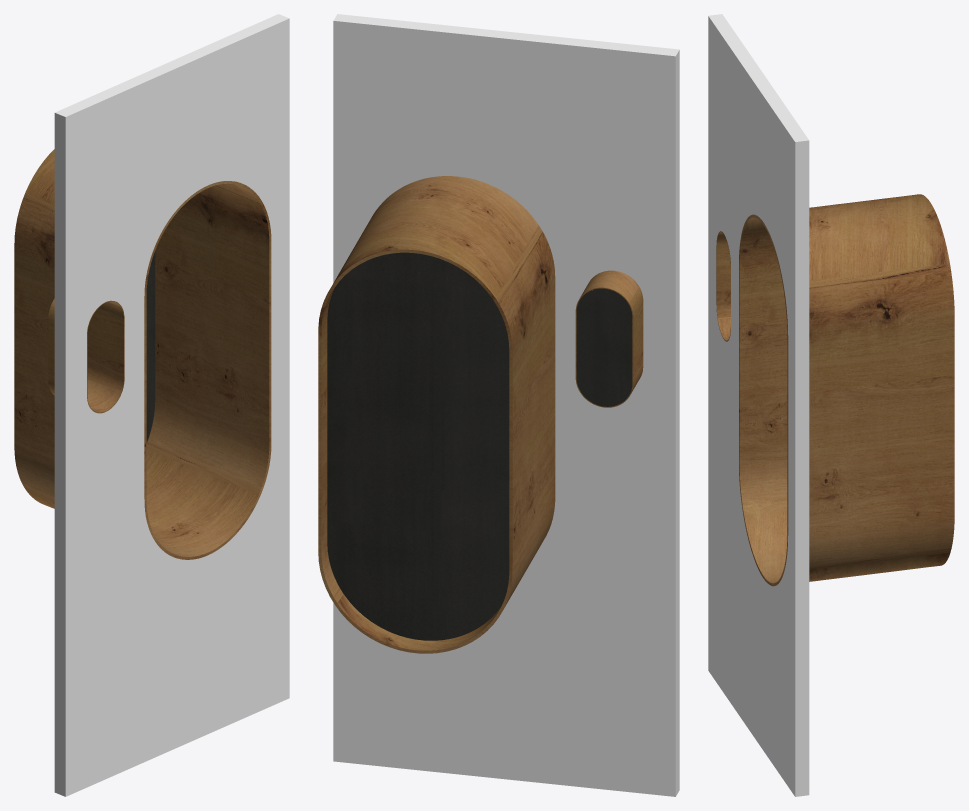
The model's file is Wardrove_01.fbx.
The picture shows the model from 3 angles, left to right: view 1: azimuth 30°, elevation 25°; view 2: azimuth 150°, elevation 25°; view 3: azimuth 270°, elevation 25°; orthographic projection. The views are drawn at different scales.
Parts seen in each view (by area): view 1: MESAH3_FI; view 2: MESAH3_FI; view 3: MESAH3_FI.
Part boxes in pixels (x1,y1,x2,y2): MESAH3_FI: (14, 14, 289, 796); MESAH3_FI: (318, 14, 679, 796); MESAH3_FI: (708, 14, 954, 796).
Bounding box in the file's own units: 0.853 × 2.03 × 0.6933.
Materials: 3 (2 with a texture image).
